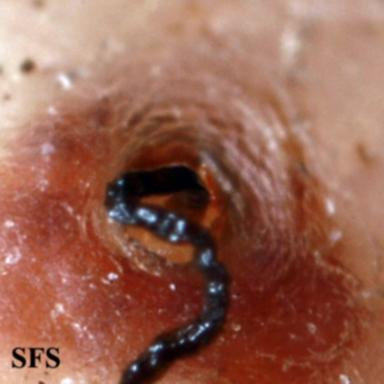Tungiasis: (2, 96, 359, 381)
